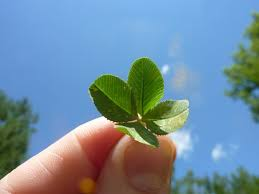4-clover: (90, 58, 188, 146)
